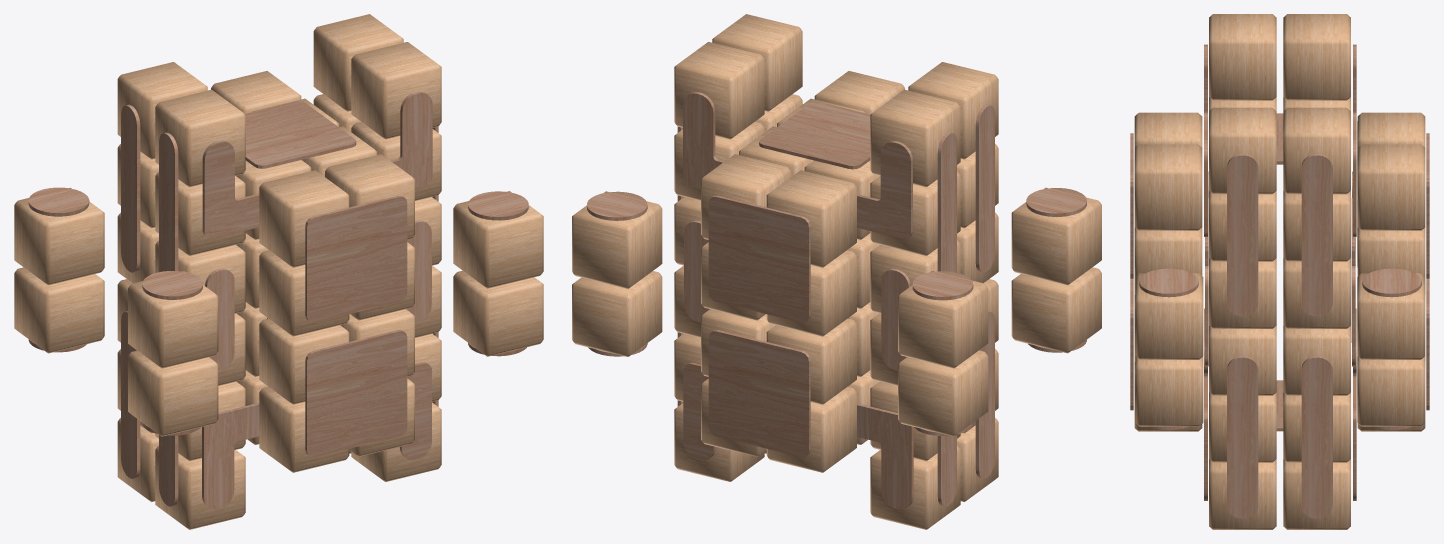
The model's file is level_70.fbx.
3 views of the same model, side by side, from view 1: azimuth 30°, elevation 25°; view 2: azimuth 150°, elevation 25°; view 3: azimuth 270°, elevation 25° (orthographic). The views are drawn at different scales.
Visible parts, largest first — view 1: obj_obs_square.001, obj_obs_square.003, Cube.057, Cube.061, Cube.063, Cube.019, Cube.064, Cube.062, Cube.058, Cube.005, Cube.022, obj_obs_square.008 (+42 smaller); view 2: obj_obs_square.004, obj_obs_square.005, Cube.063, Cube.059, Cube.061, Cube.048, Cube.062, Cube.064, Cube.060, Cube.042, Cube.051, obj_obs_square.008 (+41 smaller); view 3: Cube.026, Cube.055, Cube.005, Cube.042, obj_obs_Y.002, obj_obs_Y.003, obj_obs_Y.004, obj_obs_Y.005, Cube.019, Cube.048, Cube.058, Cube.060 (+35 smaller).
Boxes of the visible parts, x1,y1,x2,y2 form: obj_obs_square.001: (305, 195, 407, 322); obj_obs_square.003: (305, 330, 407, 457); Cube.057: (453, 270, 543, 356); Cube.061: (128, 350, 218, 436); Cube.063: (14, 267, 104, 353); Cube.019: (351, 42, 441, 139); Cube.064: (14, 187, 104, 285); Cube.062: (128, 271, 218, 368); Cube.058: (453, 191, 543, 288); Cube.005: (155, 89, 245, 187); Cube.022: (259, 170, 349, 267); obj_obs_square.008: (245, 101, 356, 168); obj_obs_square.004: (708, 195, 810, 322); obj_obs_square.005: (708, 330, 810, 457); Cube.063: (898, 350, 988, 436); Cube.059: (572, 271, 662, 356); Cube.061: (1011, 267, 1101, 353); Cube.048: (674, 42, 764, 139); Cube.062: (1011, 187, 1101, 285); Cube.064: (898, 271, 988, 368); Cube.060: (572, 191, 662, 288); Cube.042: (870, 89, 960, 187); Cube.051: (766, 170, 856, 267); obj_obs_square.008: (759, 102, 870, 169); Cube.026: (1134, 144, 1202, 230); Cube.055: (1357, 144, 1425, 230); Cube.005: (1209, 14, 1276, 100); Cube.042: (1283, 14, 1350, 100); obj_obs_Y.002: (1227, 356, 1258, 518); obj_obs_Y.003: (1301, 356, 1332, 518); obj_obs_Y.004: (1227, 154, 1258, 316); obj_obs_Y.005: (1301, 154, 1332, 316); Cube.019: (1209, 107, 1276, 194); Cube.048: (1283, 107, 1350, 194); Cube.058: (1135, 273, 1203, 359); Cube.060: (1357, 273, 1424, 359).
Size of the model in its own units: 12.91 by 12.96 by 8.86.
